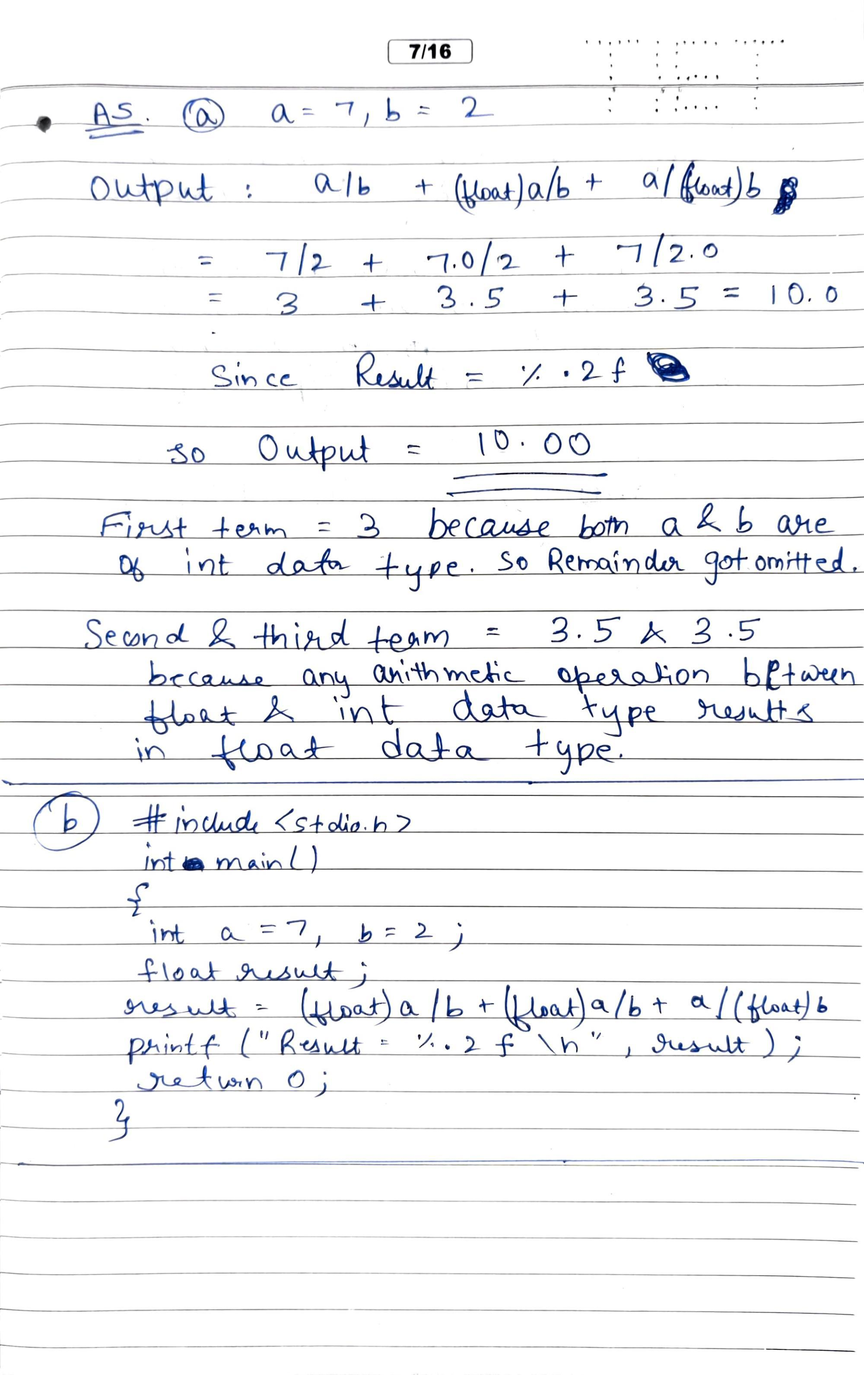cuttings: (644, 349, 695, 384), (770, 173, 800, 218), (181, 854, 206, 873)
